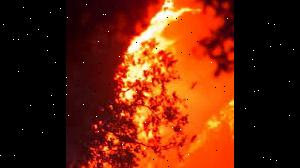fire: (101, 0, 205, 155)
